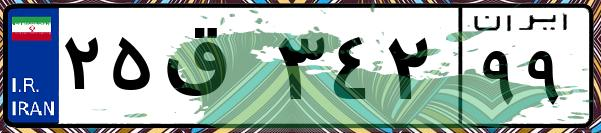2: (385, 28, 445, 110), (57, 26, 110, 100)
3: (270, 28, 330, 110)
4: (330, 28, 385, 110)
5: (110, 28, 158, 98)
9: (475, 38, 525, 113), (525, 38, 570, 115)
ق: (158, 20, 270, 120)
